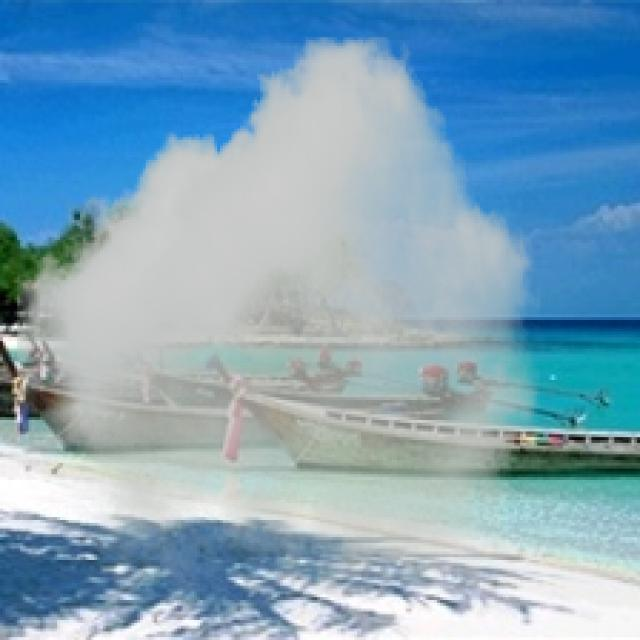smoke: (17, 37, 540, 594)
